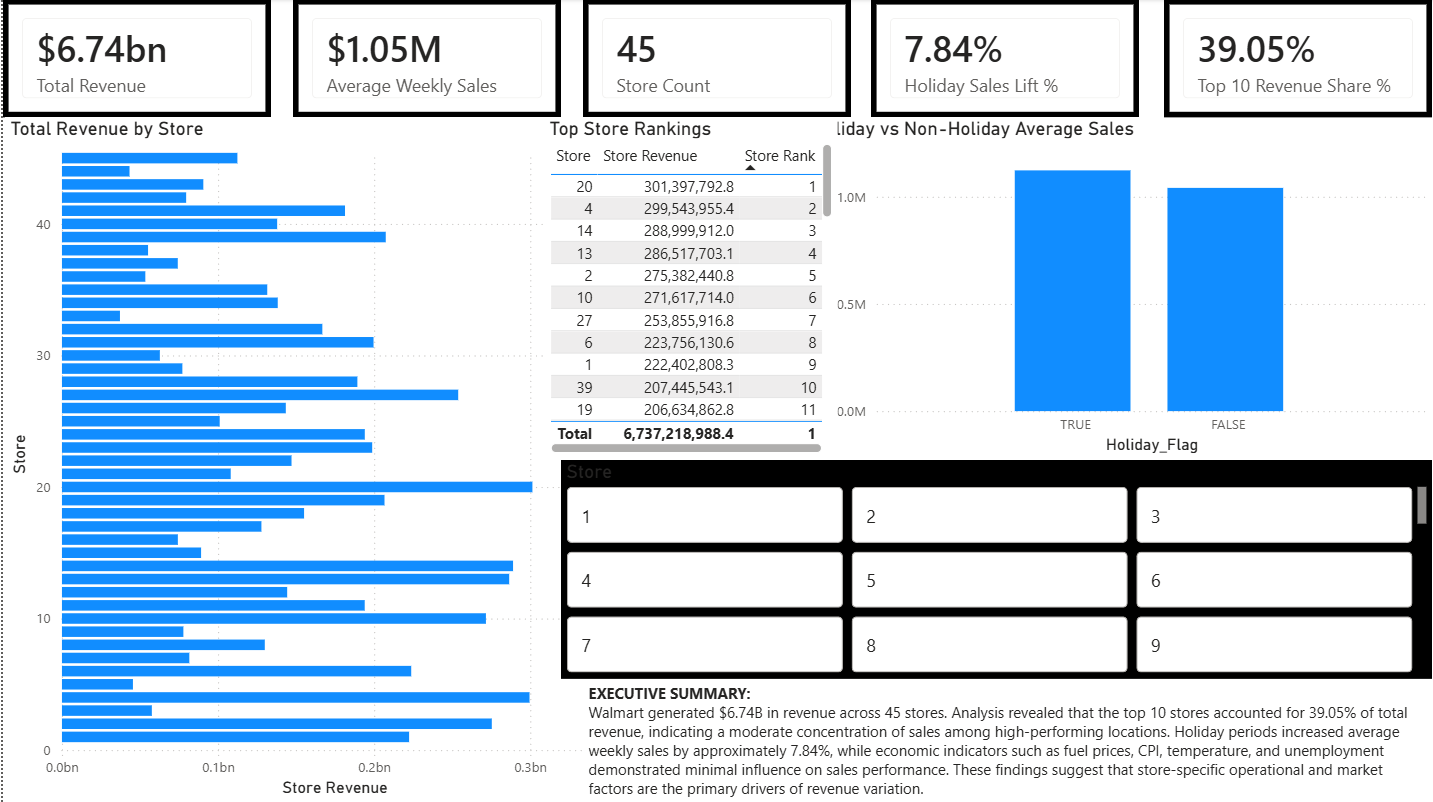

What the dashboard file says about the page in this screenshot:
{"tool":"powerbi","page":{"name":"Page 1","canvas":[1280,720],"ordinal":0},"visuals":[{"type":"cardVisual","fields":{"Data":["walmart_sales.Total Revenue"]},"box":[0,0,240.2,106],"z":0},{"type":"cardVisual","fields":{"Data":["walmart_sales.Store Count"]},"box":[519.4,0,240.2,106],"z":1000},{"type":"cardVisual","fields":{"Data":["walmart_sales.Holiday Sales Lift %"]},"box":[777.1,0,240.2,106],"z":2000},{"type":"cardVisual","fields":{"Data":["walmart_sales.Average Weekly Sales"]},"box":[259.7,0,240.2,106],"z":3000},{"type":"clusteredBarChart","title":"Total Revenue by Store","fields":{"Category":["walmart_sales.Store"],"Y":["walmart_sales.Store Revenue"]},"box":[1.9,106,560.2,613.7],"z":4000},{"type":"clusteredColumnChart","title":"Holiday vs Non-Holiday Average Sales","fields":{"Category":["walmart_sales.Holiday_Flag"],"Y":["Avg(walmart_sales.Weekly_Sales)"]},"box":[746.9,105.7,532.8,307.2],"z":5000},{"type":"tableEx","title":"Top Store Rankings","fields":{"Values":["walmart_sales.Store","walmart_sales.Store Revenue","walmart_sales.Store Rank"]},"box":[484.4,106,262.6,306.4],"z":6000},{"type":"textbox","box":[519.4,607.9,760.6,111.9],"z":7000},{"type":"cardVisual","fields":{"Data":["walmart_sales.Top 10 Revenue Share %"]},"box":[1039.8,0,240.2,106],"z":8000},{"type":"advancedSlicerVisual","fields":{"Values":["walmart_sales.Store"]},"box":[499.9,412.4,780.1,195.5],"z":9000}]}

Visuals, with their boxes in screenshot pixels (x1, y1, x2, y2), scaled from the page's 1280x720 canvas onto the 1433x802 screenshot:
cardVisual - walmart_sales.Total Revenue: crop(0, 0, 269, 118)
cardVisual - walmart_sales.Store Count: crop(581, 0, 850, 118)
cardVisual - walmart_sales.Holiday Sales Lift %: crop(870, 0, 1139, 118)
cardVisual - walmart_sales.Average Weekly Sales: crop(291, 0, 560, 118)
"Total Revenue by Store" clusteredBarChart: crop(2, 118, 629, 801)
"Holiday vs Non-Holiday Average Sales" clusteredColumnChart: crop(836, 118, 1432, 460)
"Top Store Rankings" tableEx: crop(542, 118, 836, 459)
textbox: crop(581, 677, 1432, 801)
cardVisual - walmart_sales.Top 10 Revenue Share %: crop(1164, 0, 1432, 118)
advancedSlicerVisual - walmart_sales.Store: crop(560, 459, 1432, 677)
